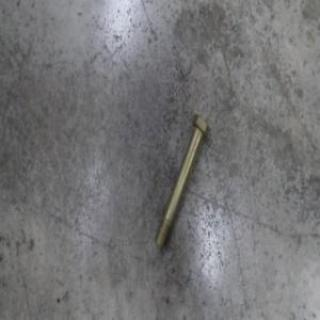Bolttrack_idkeyframe: (153, 111, 210, 250)
